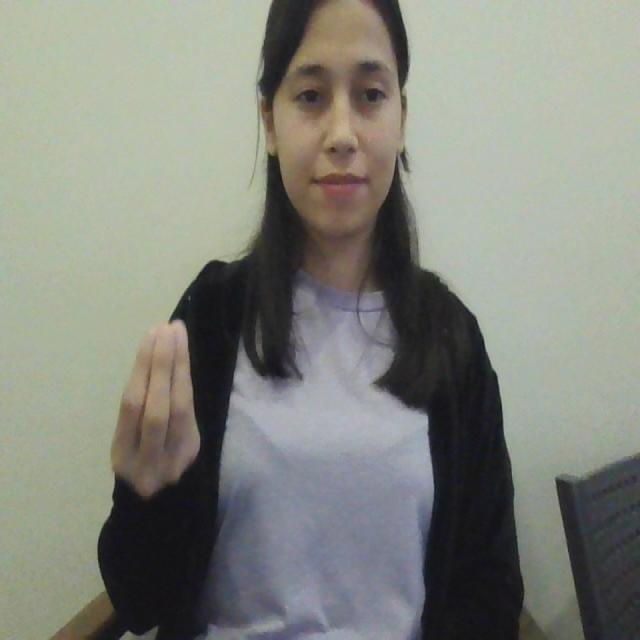iyi: (102, 296, 206, 500)
